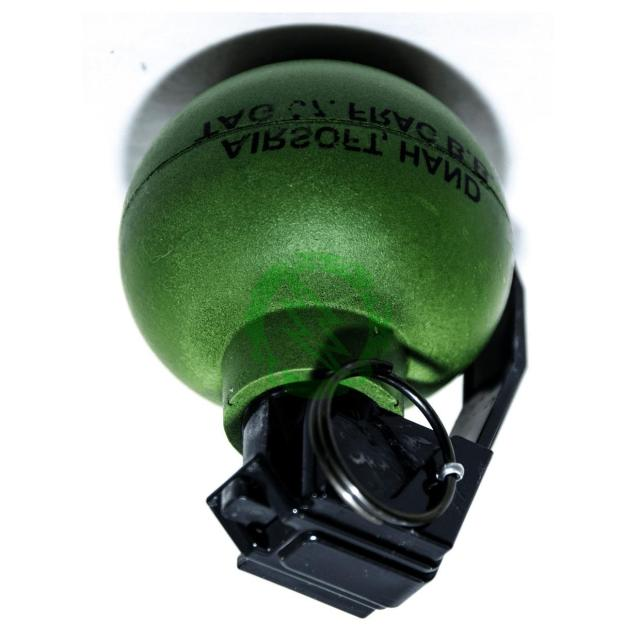grenade: (119, 59, 530, 619)
